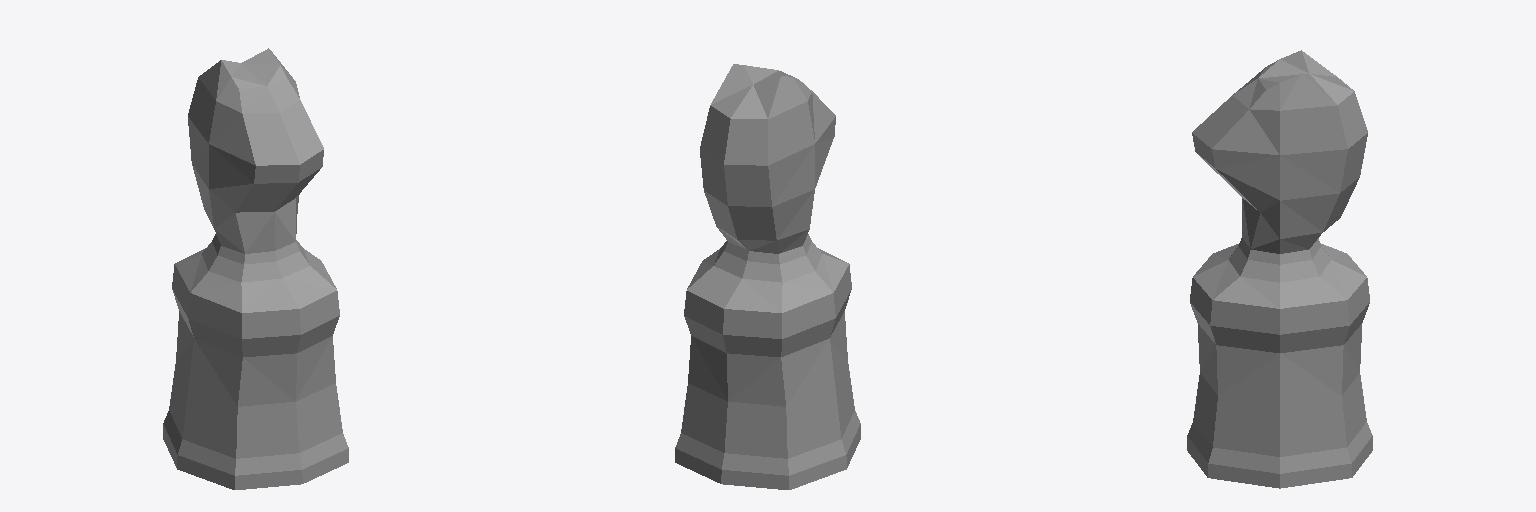
Rendered from knight.obj.
3 views of the same model, side by side, from view 1: azimuth 30°, elevation 25°; view 2: azimuth 150°, elevation 25°; view 3: azimuth 270°, elevation 25° (orthographic).
Visible parts, largest first — view 1: Cube_Cube_Material; view 2: Cube_Cube_Material; view 3: Cube_Cube_Material.
Boxes of the visible parts, x1=… form: Cube_Cube_Material: x1=163, y1=48, x2=348, y2=489; Cube_Cube_Material: x1=675, y1=64, x2=860, y2=489; Cube_Cube_Material: x1=1187, y1=50, x2=1372, y2=488.
Bounding box in the file's own units: 1.36 × 3.19 × 1.39.